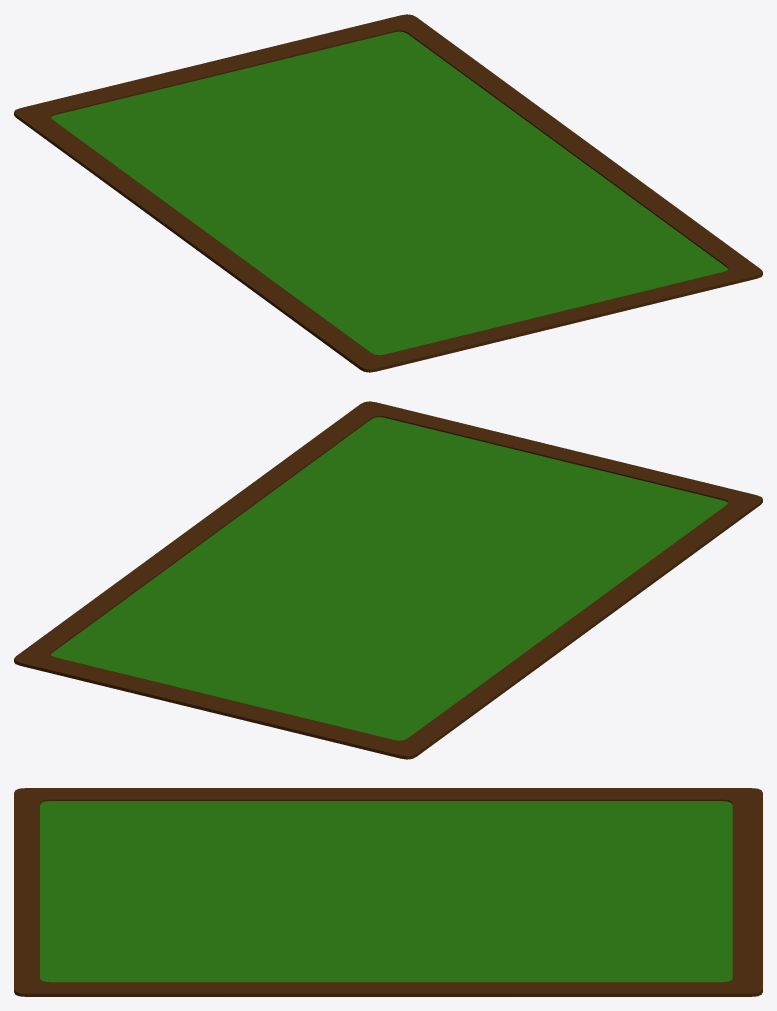
File: Pool.FBX
The picture shows the model from 3 angles, top to bottom: view 1: azimuth 30°, elevation 25°; view 2: azimuth 150°, elevation 25°; view 3: azimuth 270°, elevation 25°; orthographic projection. The views are drawn at different scales.
Parts seen in each view (by area): view 1: Box004; view 2: Box004; view 3: Box004.
Boxes of the visible parts, box(x1,y1,x2,y2) form: Box004: box(14, 14, 762, 372); Box004: box(14, 401, 762, 759); Box004: box(14, 788, 762, 996).
Bounding box in the file's own units: 31.76 × 48.9 × 0.2338.
